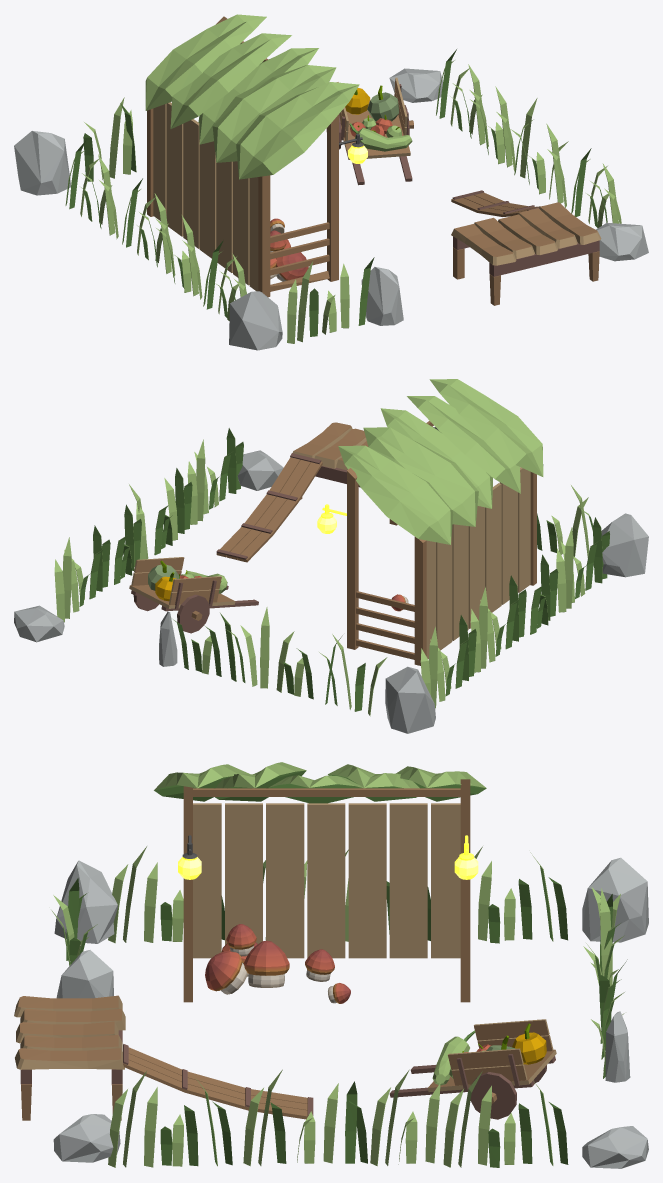
File: triangle.glb
The picture shows the model from 3 angles, top to bottom: view 1: azimuth 30°, elevation 25°; view 2: azimuth 150°, elevation 25°; view 3: azimuth 270°, elevation 25°; orthographic projection. The views are drawn at different scales.
Bounding box in the file's own units: 5.6 × 2.54 × 5.84.
